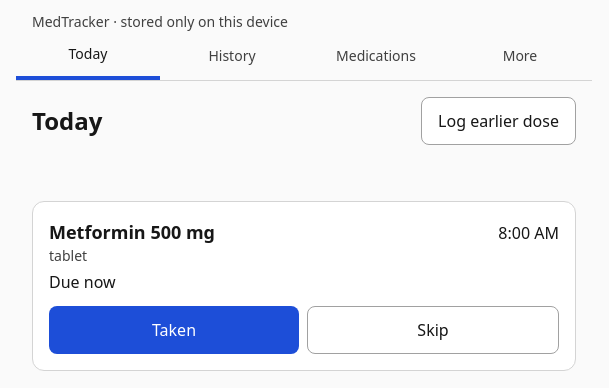
Scenario: Today flow › shows a due medication, records Taken, and undoes it
The image size is (609, 388).
Expected: the text "Due now" is shown, [49, 271, 116, 293]
Click the button "Taken": {"x": 174, "y": 330} [49, 306, 299, 354]
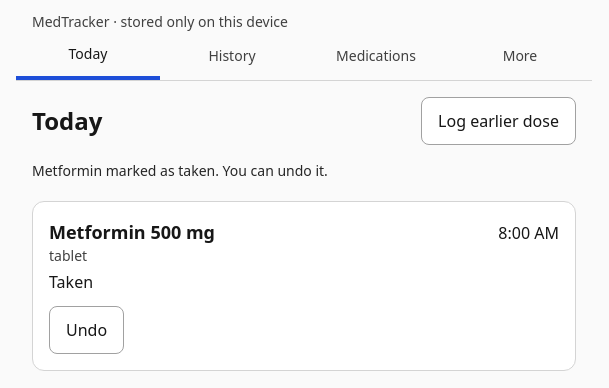
Expected: the text "Taken" is shown, [49, 271, 93, 293]
Expected: the message shows "marked as taken", [32, 161, 328, 180]
Click the button "Undo": {"x": 87, "y": 330} [49, 306, 124, 354]
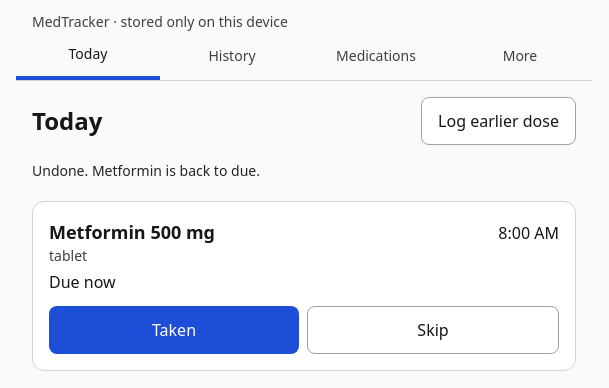
Expected: the text "Due now" is shown, [49, 271, 116, 293]
